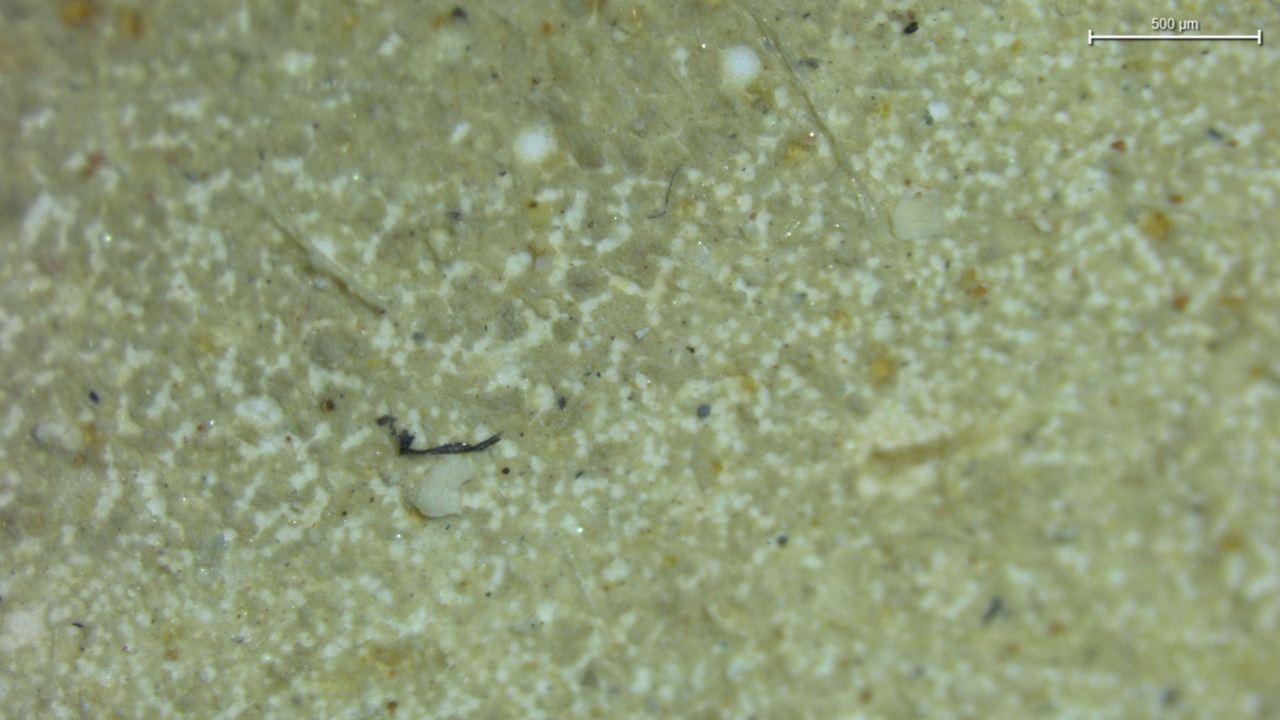microplastic_fragment: (406, 456, 474, 517)
